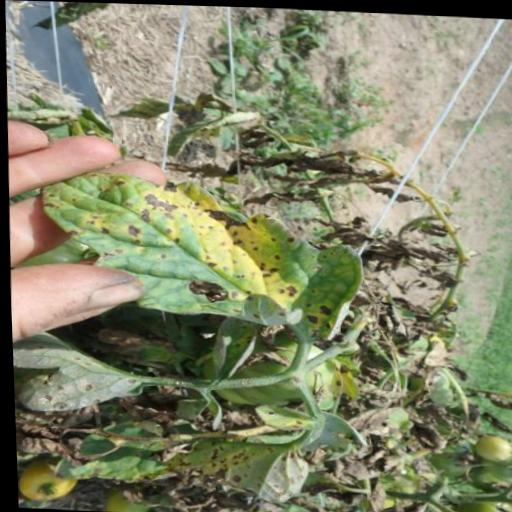Septoria: (33, 168, 370, 337), (155, 425, 310, 500), (10, 330, 140, 415)
